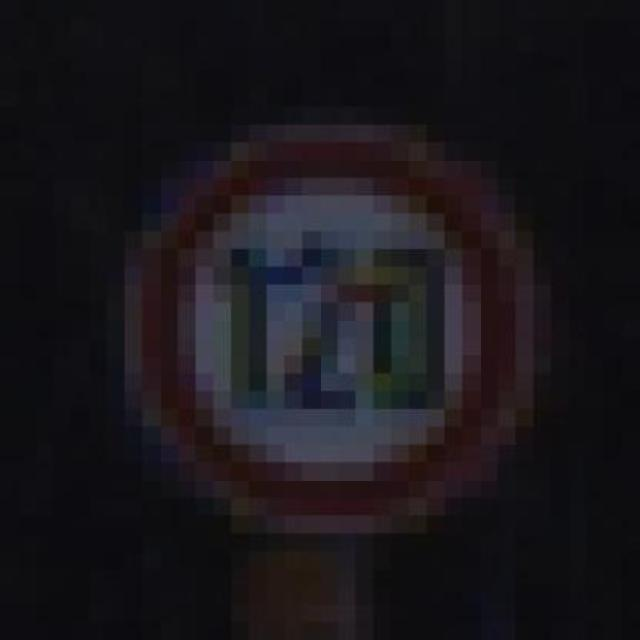forb_speed_over_120: (165, 135, 513, 514)
